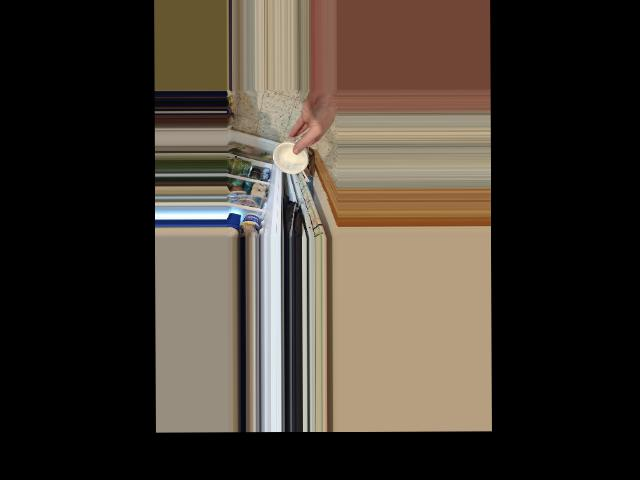cotage: (274, 133, 309, 178)
